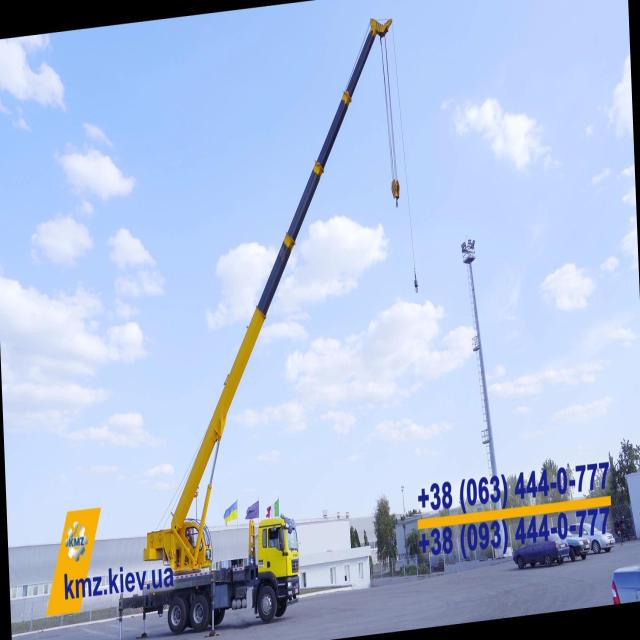crane: (88, 13, 433, 640)
